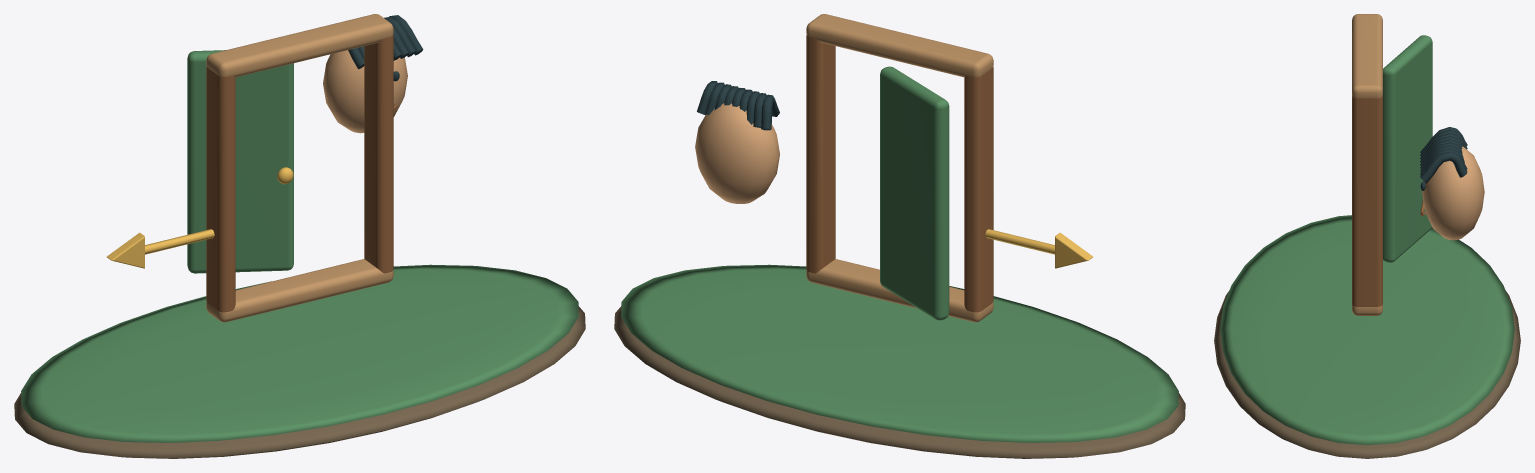
File: behind-face.glb
3 renders of one model, left to right at view 1: azimuth 30°, elevation 25°; view 2: azimuth 150°, elevation 25°; view 3: azimuth 270°, elevation 25°, orthographic. The views are drawn at different scales.
Parts seen in each view (by area): view 1: behind-face_surface_01, behind-face_surface_05, behind-face_surface_00, behind-face_surface_06, behind-face_surface_03, behind-face_surface_02, behind-face_surface_04; view 2: behind-face_surface_01, behind-face_surface_05, behind-face_surface_00, behind-face_surface_06, behind-face_surface_03, behind-face_surface_04, behind-face_surface_02; view 3: behind-face_surface_01, behind-face_surface_05, behind-face_surface_00, behind-face_surface_03, behind-face_surface_06, behind-face_surface_04.
Part boxes in pixels (box(x1,y1,x2,y2)): behind-face_surface_01: box(21, 50, 578, 442); behind-face_surface_05: box(206, 35, 397, 312); behind-face_surface_00: box(14, 306, 585, 458); behind-face_surface_06: box(206, 14, 393, 322); behind-face_surface_03: box(323, 50, 407, 133); behind-face_surface_02: box(107, 167, 293, 268); behind-face_surface_04: box(348, 15, 423, 81); behind-face_surface_01: box(621, 66, 1178, 442); behind-face_surface_05: box(806, 35, 993, 312); behind-face_surface_00: box(614, 306, 1185, 458); behind-face_surface_06: box(806, 14, 993, 322); behind-face_surface_03: box(695, 103, 779, 203); behind-face_surface_04: box(697, 81, 779, 130); behind-face_surface_02: box(985, 229, 1092, 268); behind-face_surface_01: box(1220, 35, 1514, 445); behind-face_surface_05: box(1352, 96, 1425, 306); behind-face_surface_00: box(1214, 290, 1520, 458); behind-face_surface_03: box(1422, 146, 1484, 240); behind-face_surface_06: box(1352, 14, 1382, 315); behind-face_surface_04: box(1420, 127, 1467, 190).
Bounding box in the file's own units: 4.56 × 2.75 × 2.5.
